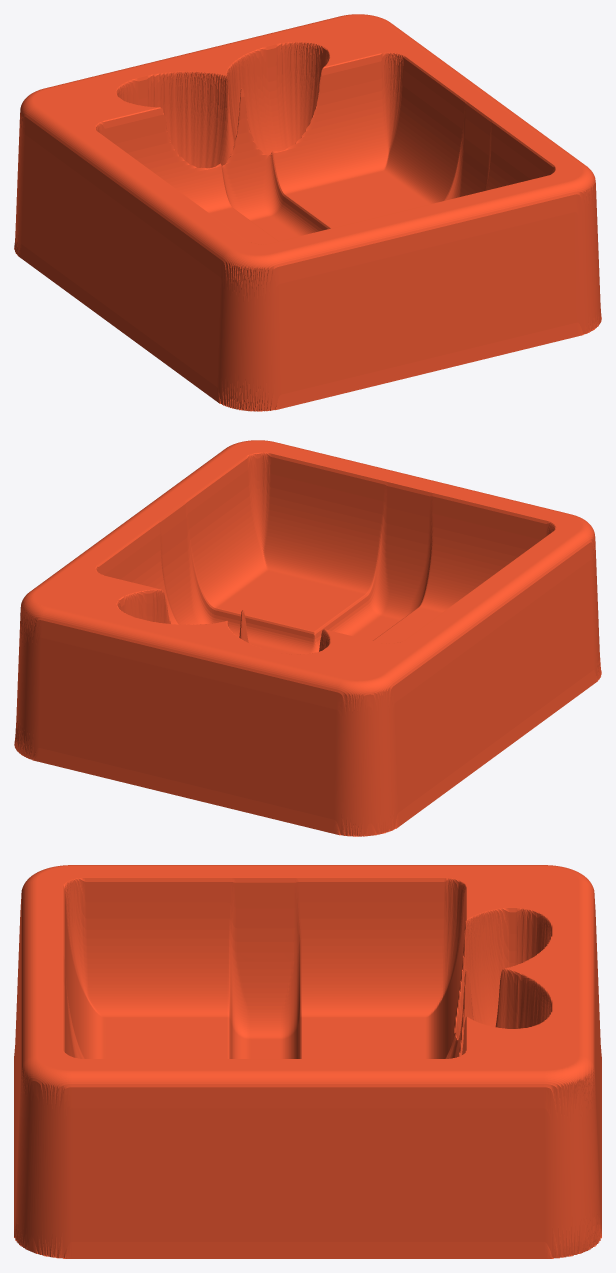
The model's file is mold.glb.
The picture shows the model from 3 angles, top to bottom: view 1: azimuth 30°, elevation 25°; view 2: azimuth 150°, elevation 25°; view 3: azimuth 270°, elevation 25°; orthographic projection. The views are drawn at different scales.
Parts seen in each view (by area): view 1: geometry_0; view 2: geometry_0; view 3: geometry_0.
Part boxes in pixels (x1,y1,x2,y2): geometry_0: [14, 14, 601, 411]; geometry_0: [14, 440, 601, 836]; geometry_0: [14, 865, 601, 1258].
Size of the model in its own units: 0.083 by 0.031 by 0.0924.
